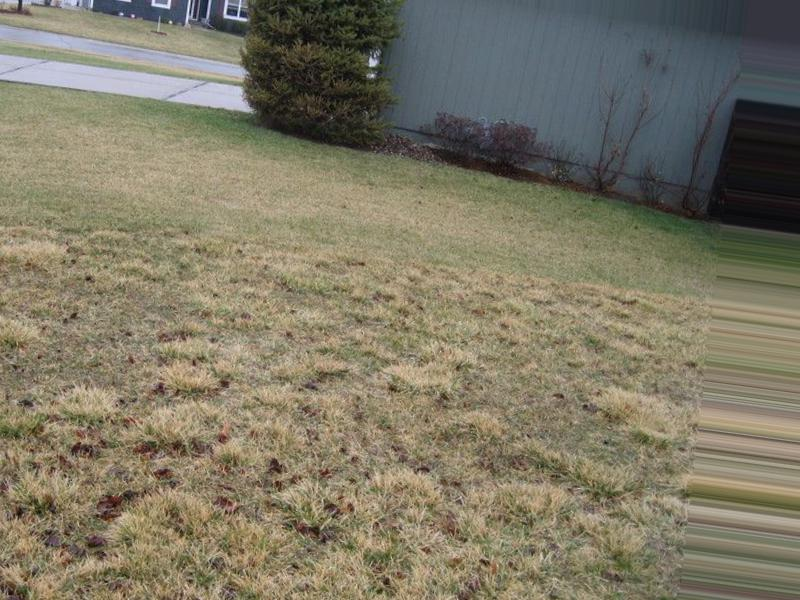patch: (127, 285, 516, 513), (182, 156, 293, 202), (392, 203, 482, 232)
